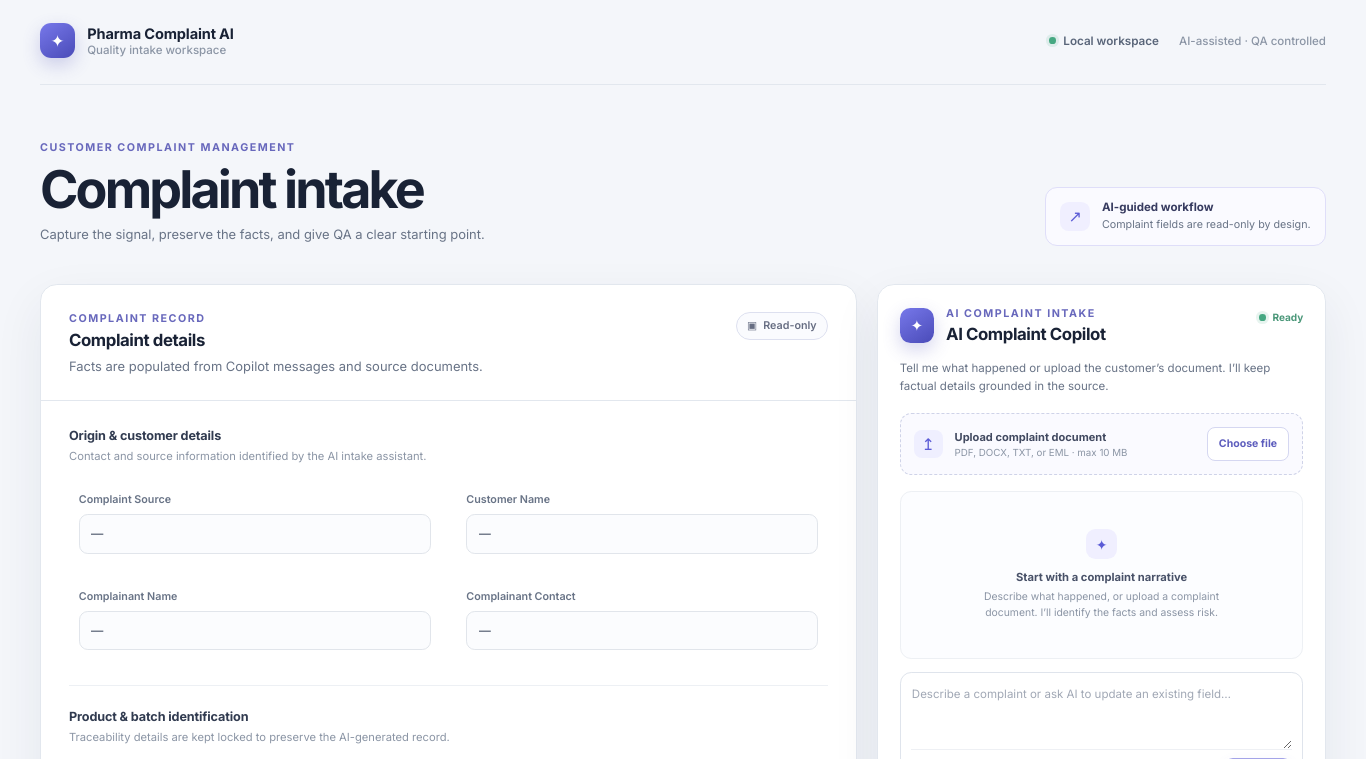
Test: ComplaintPage AI workflow › tracks actual AI edits and risk changes in the unsaved local history
Type "Log the complaint for ABC Pharma." into the text box named "AI Copilot message" at x=1102, y=716, box left=911, top=684, right=1292, bottom=749
(page scrolled)
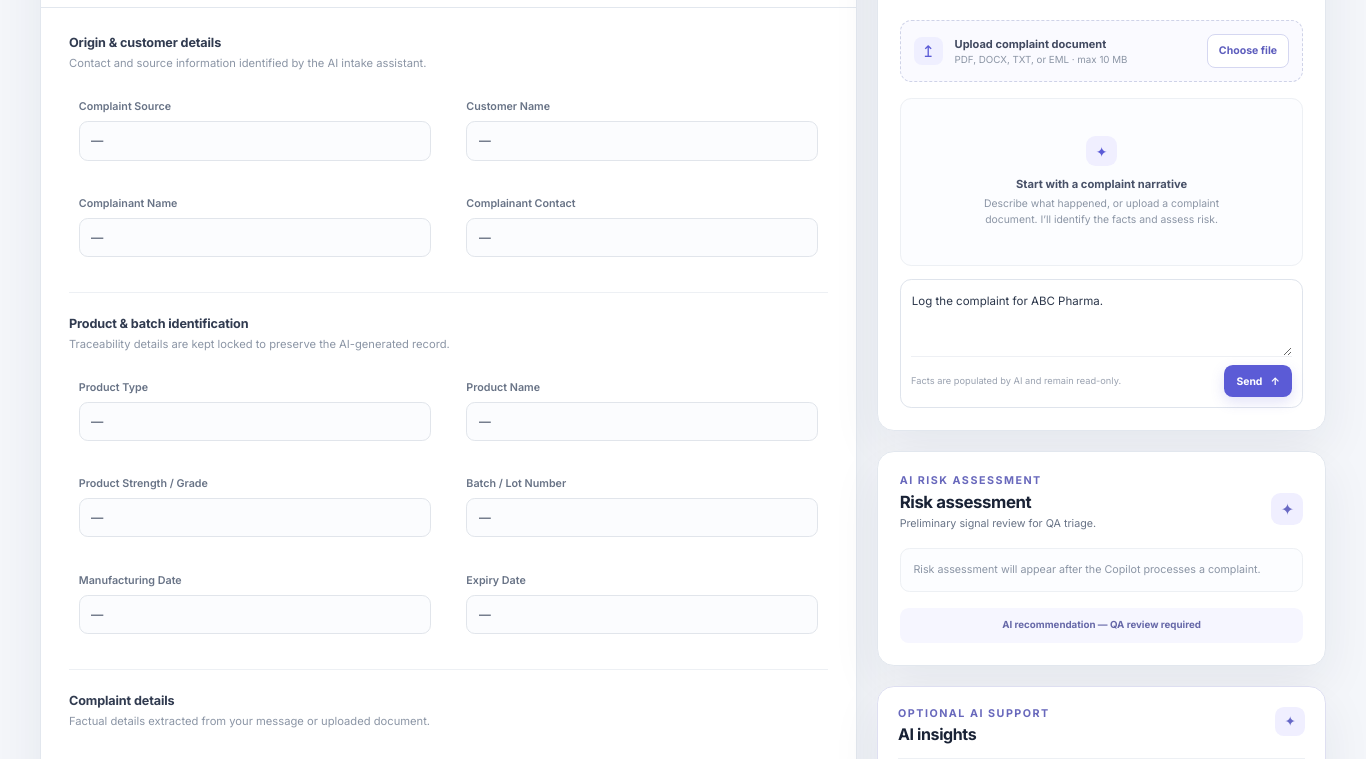
Click the button "Send ↑" at x=1258, y=381, box left=1224, top=365, right=1292, bottom=397
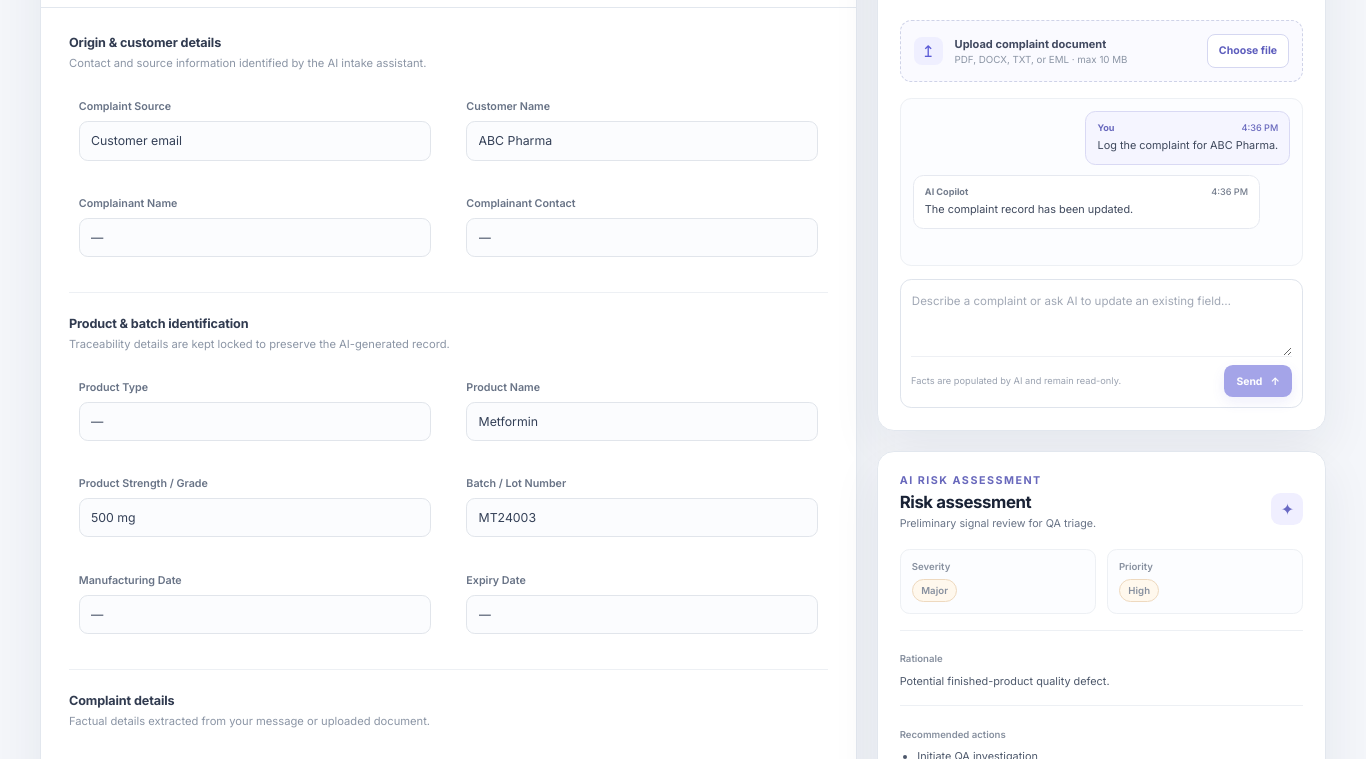
Expected: the field labelled "Batch / Lot Number" holds "MT24003", left=466, top=498, right=818, bottom=537
Type "Change the batch to MT24004 and quantity to 500." into the text box named "AI Copilot message" at x=1102, y=323, box left=911, top=290, right=1292, bottom=356
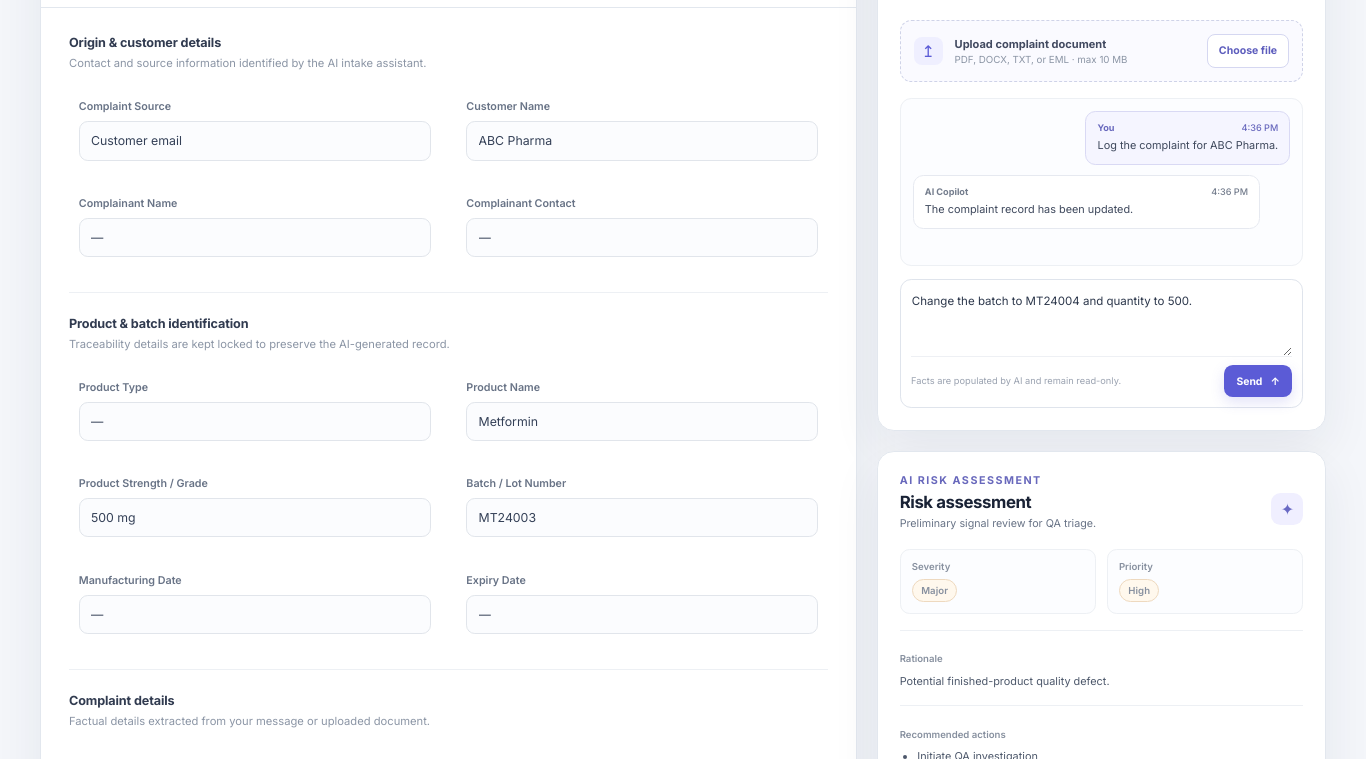
Click the button "Send ↑" at x=1258, y=381, box left=1224, top=365, right=1292, bottom=397
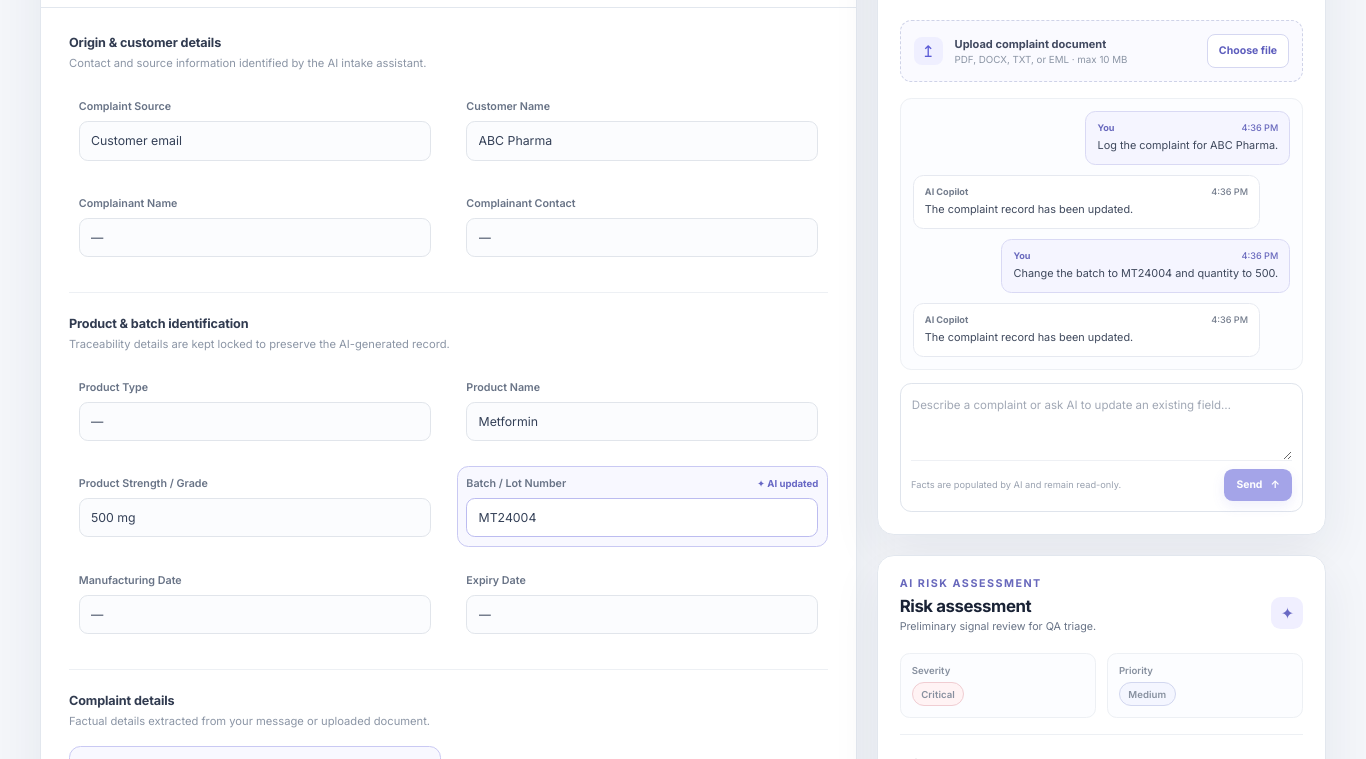
Expected: the field labelled "Batch / Lot Number" holds "MT24004", left=466, top=498, right=818, bottom=537
